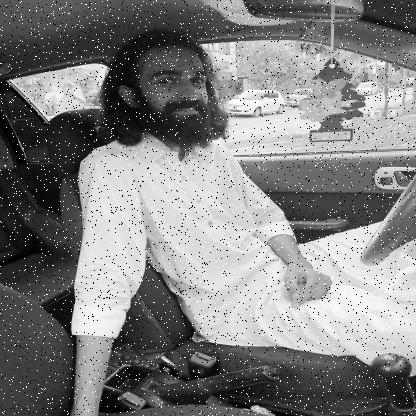no_seatbelt: (115, 26, 248, 265)
